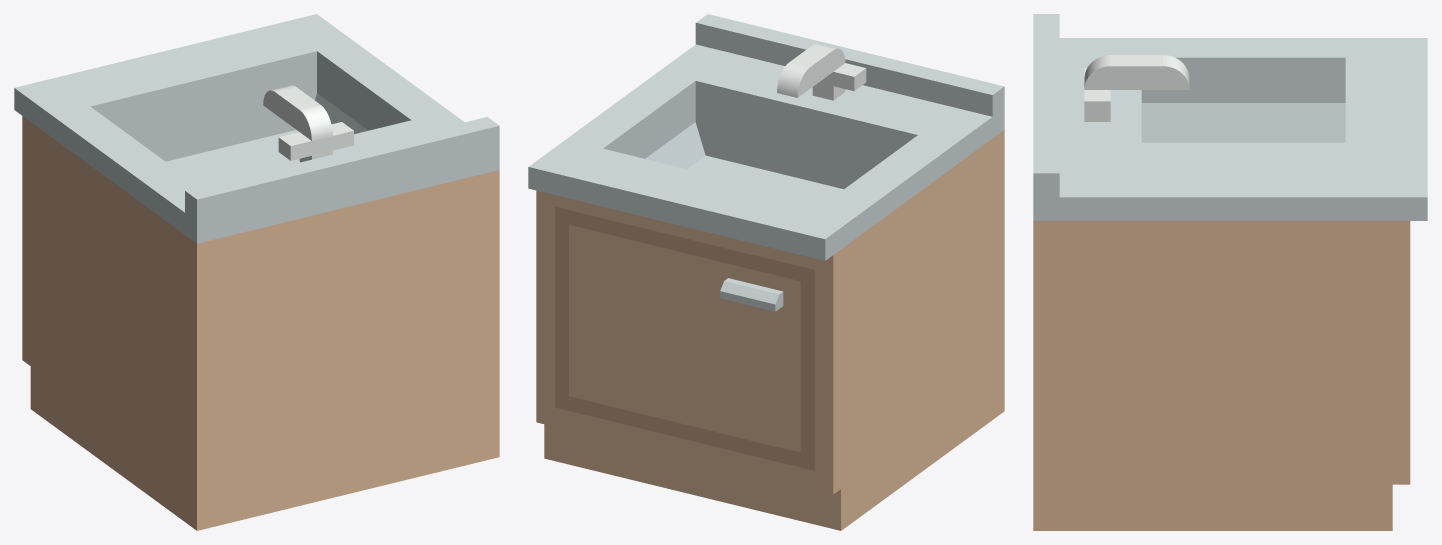
Rendered from Furniture_Sink_MixedMats.fbx.
3 views of the same model, side by side, from view 1: azimuth 30°, elevation 25°; view 2: azimuth 150°, elevation 25°; view 3: azimuth 270°, elevation 25° (orthographic). The views are drawn at different scales.
Parts seen in each view (by area): view 1: kitchenSink; view 2: kitchenSink; view 3: kitchenSink.
Part boxes in pixels (left/top/right/bottom): kitchenSink: left=14, top=14, right=499, bottom=530; kitchenSink: left=528, top=14, right=1004, bottom=530; kitchenSink: left=1033, top=14, right=1427, bottom=530.
Size of the model in its own units: 105 by 120 by 110.
